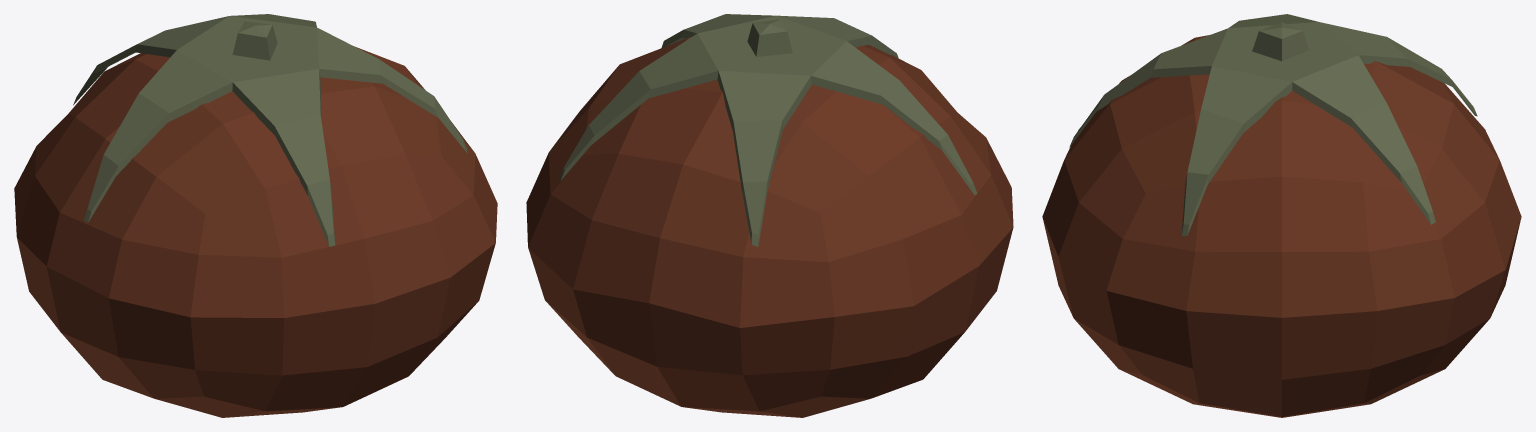
The model's file is Tomato_Crop.glb.
The picture shows the model from 3 angles, left to right: view 1: azimuth 30°, elevation 25°; view 2: azimuth 150°, elevation 25°; view 3: azimuth 270°, elevation 25°; orthographic projection.
Parts seen in each view (by area): view 1: Tomato_Crop; view 2: Tomato_Crop; view 3: Tomato_Crop.
Boxes of the visible parts, <box> form: Tomato_Crop: <box>14,14,497,417</box>; Tomato_Crop: <box>526,14,1013,417</box>; Tomato_Crop: <box>1042,14,1521,417</box>.
Size of the model in its own units: 0.178 by 0.1481 by 0.178.
